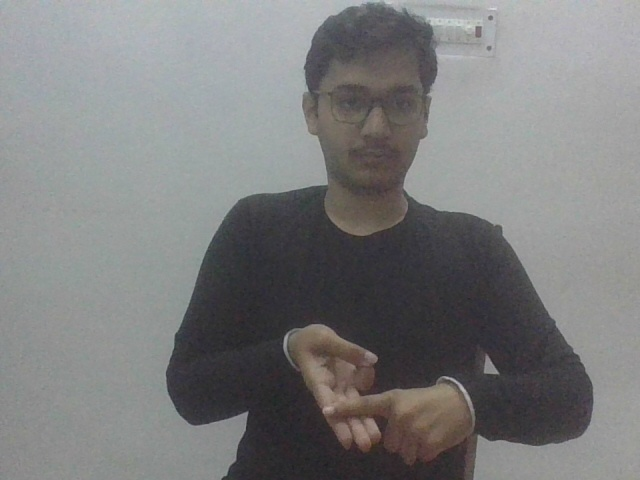E: (280, 322, 478, 469)
